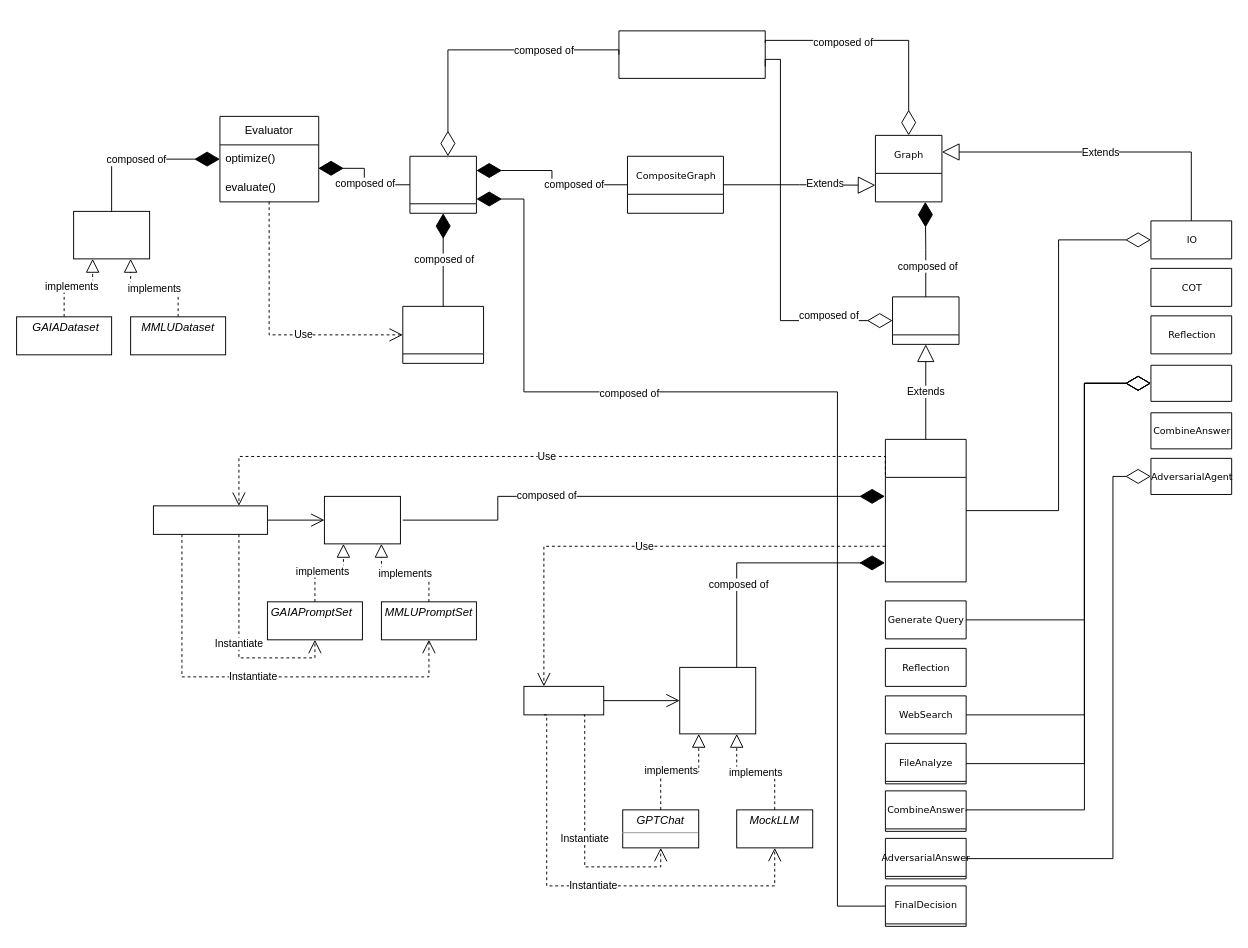
Image size: 1248x948. Some labels were removed from this diagram. The centre of each missing label's shape, as x and y in pixels:
"Dataset Interface" goes at point 111,234.
"DirectAnswer" goes at point 925,510.
"Edgewise Distribution" goes at point 443,334.
"GlobalMemory" goes at point 691,54.
"LLM Interface" goes at point 717,700.
"LLMRegistry" goes at point 563,700.
"Node" goes at point 925,320.
"PromptSet Interface" goes at point 361,519.
"PromptSetRegistry" goes at point 209,519.
"Swarm" goes at point 442,184.
"TOT" goes at point 1191,382.
